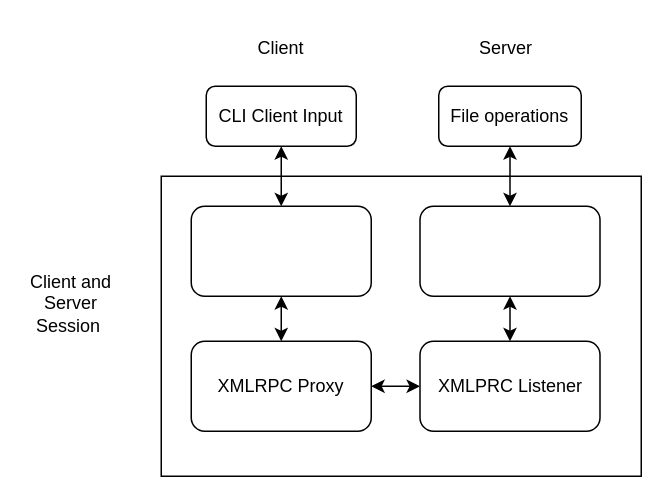
The diagram is 668 pixels wide and 503 high, and some of its shapes have lost their labels. The centre of each missing label's shape, as x and y in pixels:
"Remote Functions" belongs at point 509,250.
"Upload / Download / List" belongs at point 280,250.
